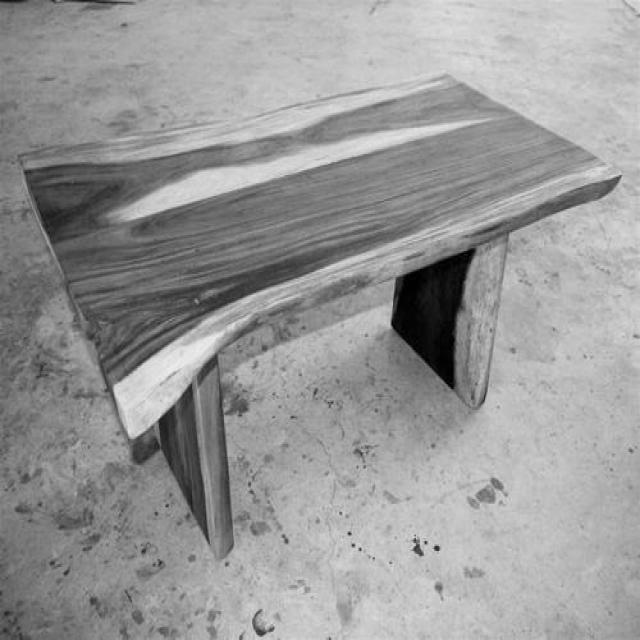table: (22, 72, 620, 554)
